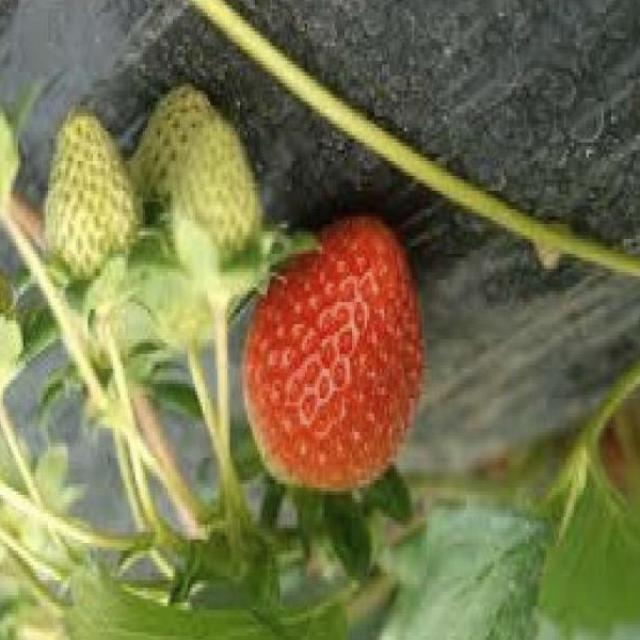Healthy Fruit: (239, 212, 424, 493)
